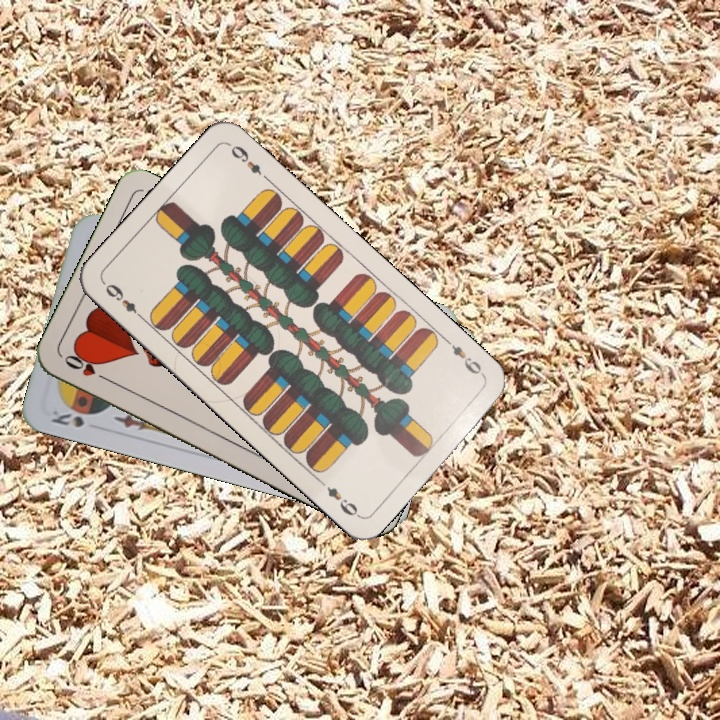E9: (100, 278, 147, 323), (441, 335, 488, 380)
HO: (60, 351, 114, 385)
SK: (47, 406, 87, 430)
